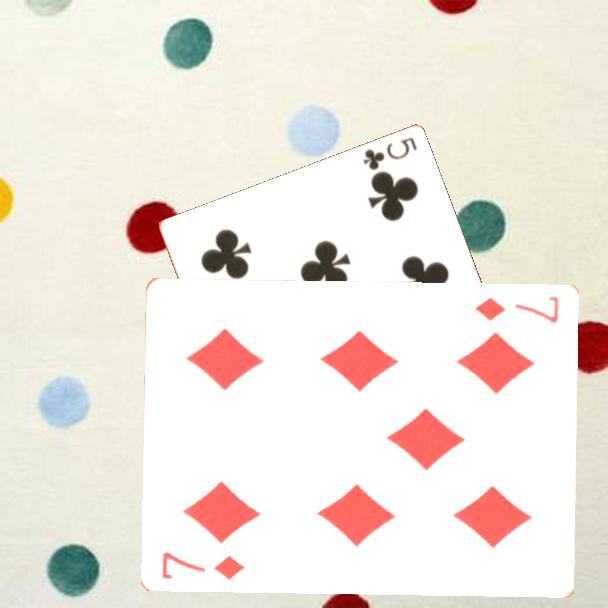c05: (359, 134, 420, 174)
d07: (159, 547, 248, 582), (472, 292, 562, 326)
